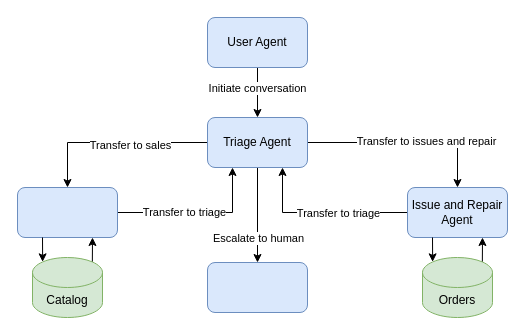
This 525x335 diagram has some shape labels left out. The shapes that lost their labels are listed below. From the top down, each one's centre as x and y in pixels, then its label:
the point at 67,212: Sales Agent
the point at 257,287: Human Agent
